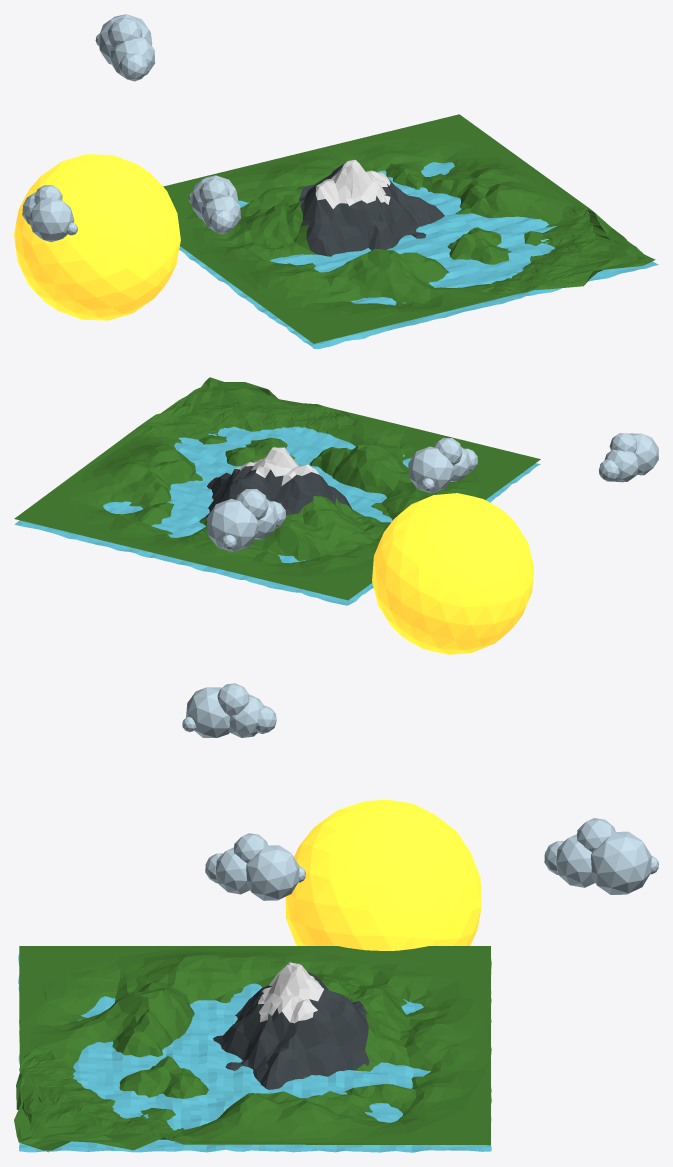
3 views of the same model, one above another, from view 1: azimuth 30°, elevation 25°; view 2: azimuth 150°, elevation 25°; view 3: azimuth 270°, elevation 25° (orthographic). The views are drawn at different scales.
Visible parts, largest first — view 1: Landscape.019, ICO球, Landscape_plane.001, ICO球.002, ICO球.001, ICO球.004; view 2: Landscape.019, ICO球, Landscape_plane.001, ICO球.002, ICO球.001, ICO球.004; view 3: Landscape.019, ICO球, Landscape_plane.001, ICO球.002, ICO球.001, ICO球.004.
Boxes of the visible parts, bbox=[...] form: Landscape.019: bbox=[163, 114, 655, 343]; ICO球: bbox=[14, 154, 180, 320]; Landscape_plane.001: bbox=[179, 162, 658, 348]; ICO球.002: bbox=[95, 14, 155, 81]; ICO球.001: bbox=[188, 175, 240, 234]; ICO球.004: bbox=[22, 185, 77, 242]; Landscape.019: bbox=[14, 377, 540, 600]; ICO球: bbox=[372, 493, 533, 654]; Landscape_plane.001: bbox=[15, 426, 540, 605]; ICO球.002: bbox=[206, 489, 285, 552]; ICO球.001: bbox=[408, 438, 477, 493]; ICO球.004: bbox=[599, 433, 658, 482]; Landscape.019: bbox=[14, 946, 490, 1152]; ICO球: bbox=[285, 799, 481, 950]; Landscape_plane.001: bbox=[18, 954, 492, 1152]; ICO球.002: bbox=[544, 818, 658, 894]; ICO球.001: bbox=[205, 833, 305, 900]; ICO球.004: bbox=[182, 683, 276, 737].
Bounding box in the file's own units: 3.17 × 1.12 × 2.74.
